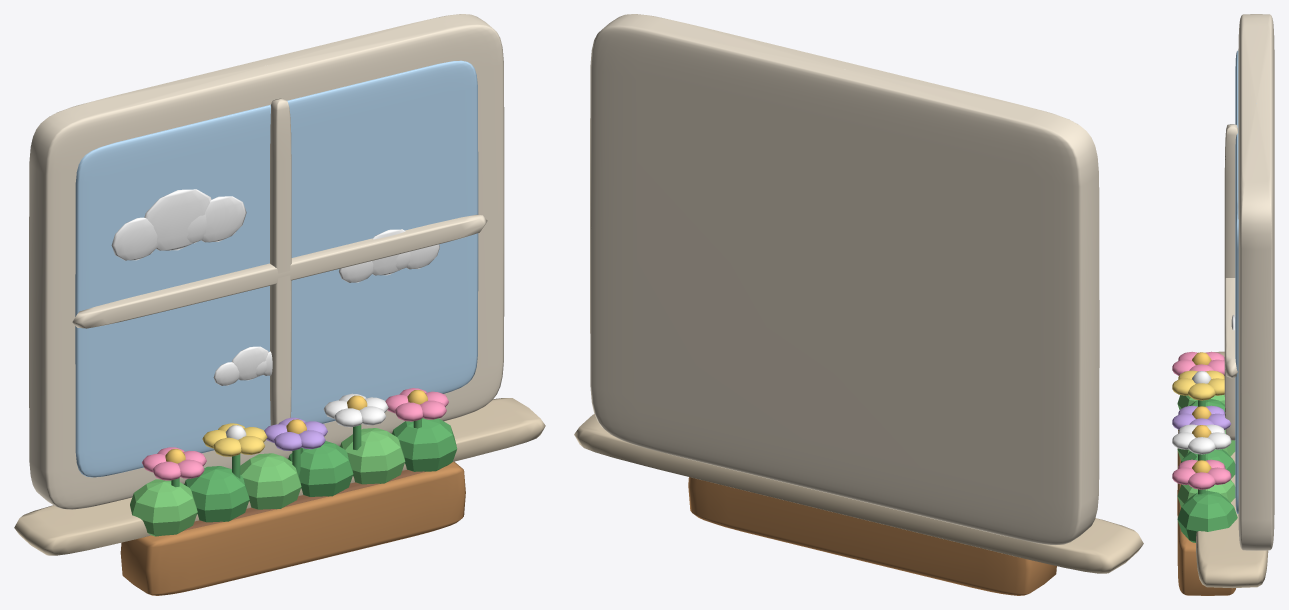
The model's file is window_interior.glb.
3 views of the same model, side by side, from view 1: azimuth 30°, elevation 25°; view 2: azimuth 150°, elevation 25°; view 3: azimuth 270°, elevation 25° (orthographic). The views are drawn at different scales.
Parts seen in each view (by area): view 1: window_interior; view 2: window_interior; view 3: window_interior.
Boxes of the visible parts, x1,y1,x2,y2 form: window_interior: [14, 14, 545, 595]; window_interior: [574, 14, 1143, 595]; window_interior: [1172, 14, 1274, 595].
Size of the model in its own units: 1.76 by 1.55 by 0.337.
Materials: 1 (1 with a texture image).
